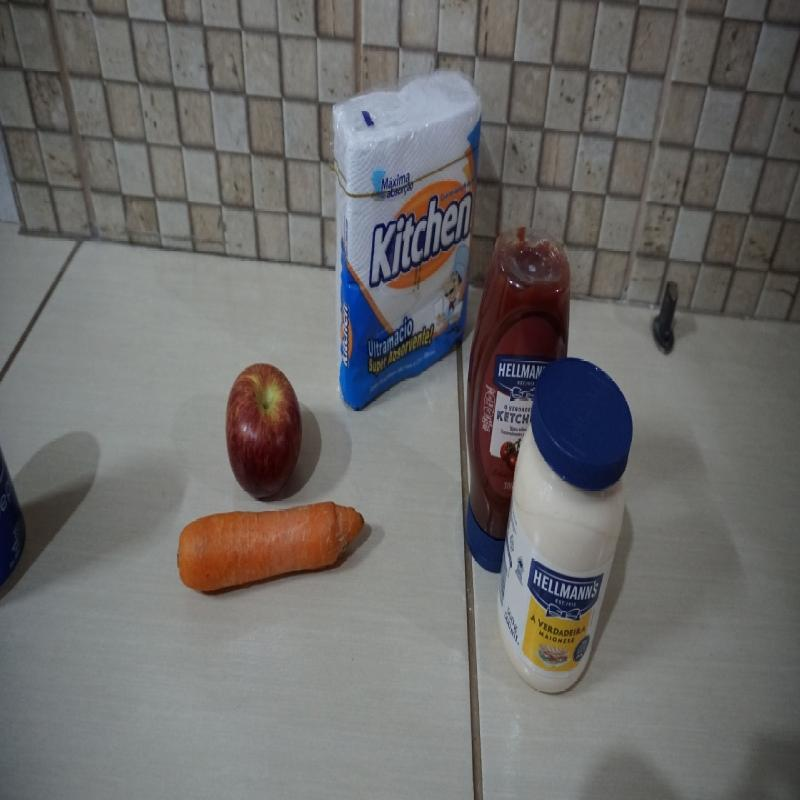Apple: (225, 363, 304, 500)
Carrot: (176, 501, 365, 599)
Ketchup: (464, 224, 571, 575)
Mayonnaise: (501, 357, 631, 686)
Napkin: (333, 71, 481, 408)
